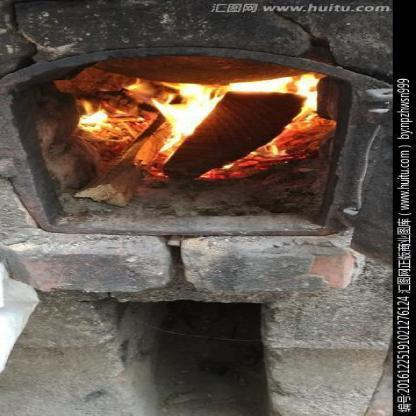Fire: (51, 62, 338, 187)
